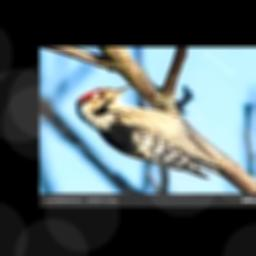Woodpecker: (76, 85, 228, 179)
